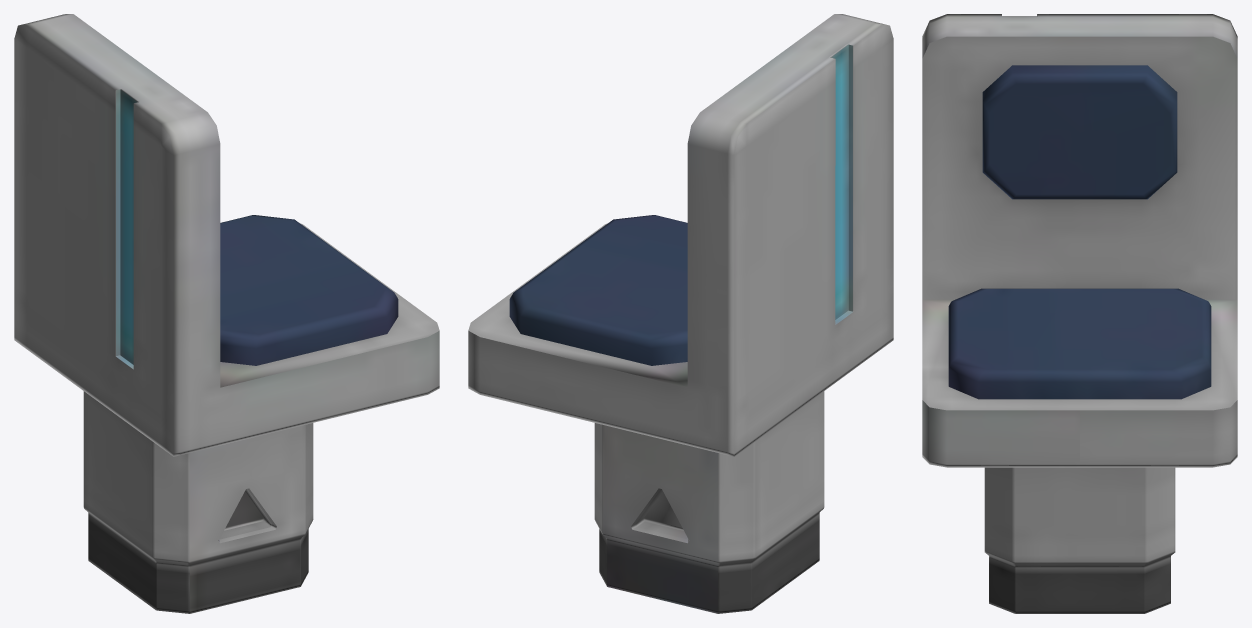
File: SM_Chair_SF_58d1cd.glb
3 renders of one model, left to right at view 1: azimuth 30°, elevation 25°; view 2: azimuth 150°, elevation 25°; view 3: azimuth 270°, elevation 25°, orthographic.
Bounding box in the file's own units: 0.5995 × 1.07 × 0.5995.
Materials: 1 (1 with a texture image).
